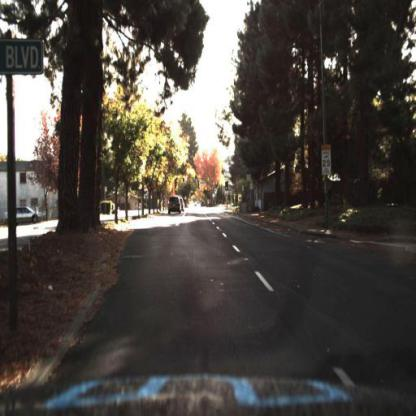car: (7, 206, 46, 227), (169, 197, 183, 215), (186, 199, 190, 217)
trafficLight: (224, 180, 230, 193)
trafficLight-Green: (193, 172, 199, 188), (180, 177, 186, 191)
